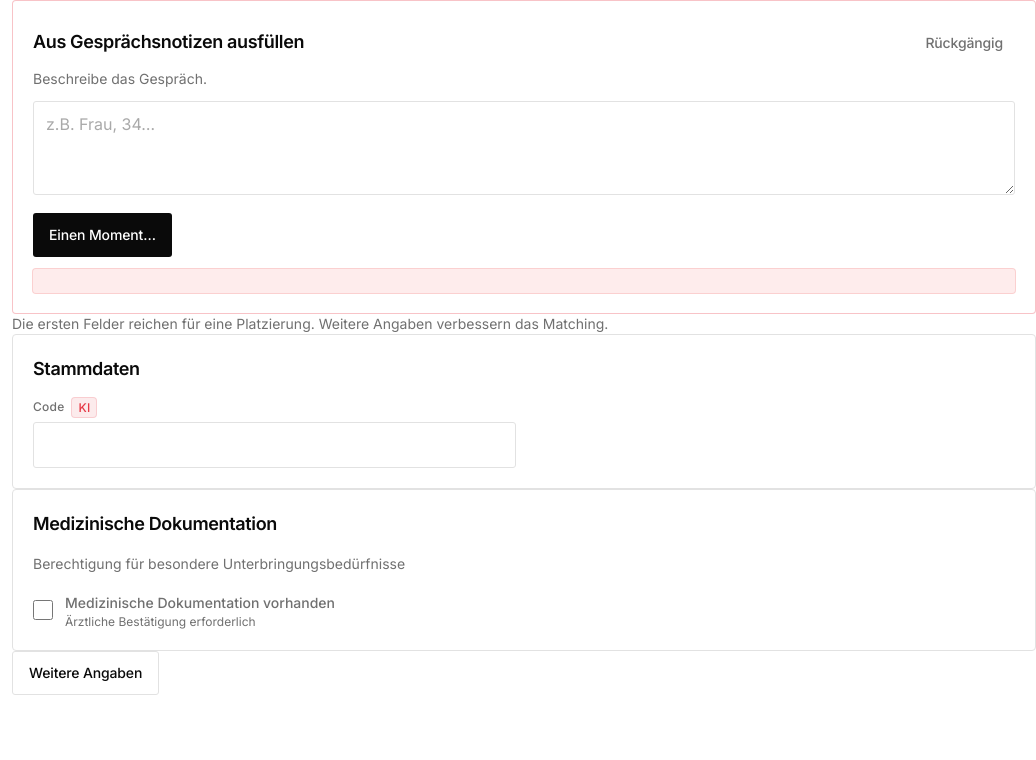
Test: ResidentFormFields — MedicalDocumentationSection › hides doc-type fields again when checkbox unchecked
Click the checkbox labelled "Medizinische Dokumentation vorhanden" at (43, 610), box [33,600,53,620]
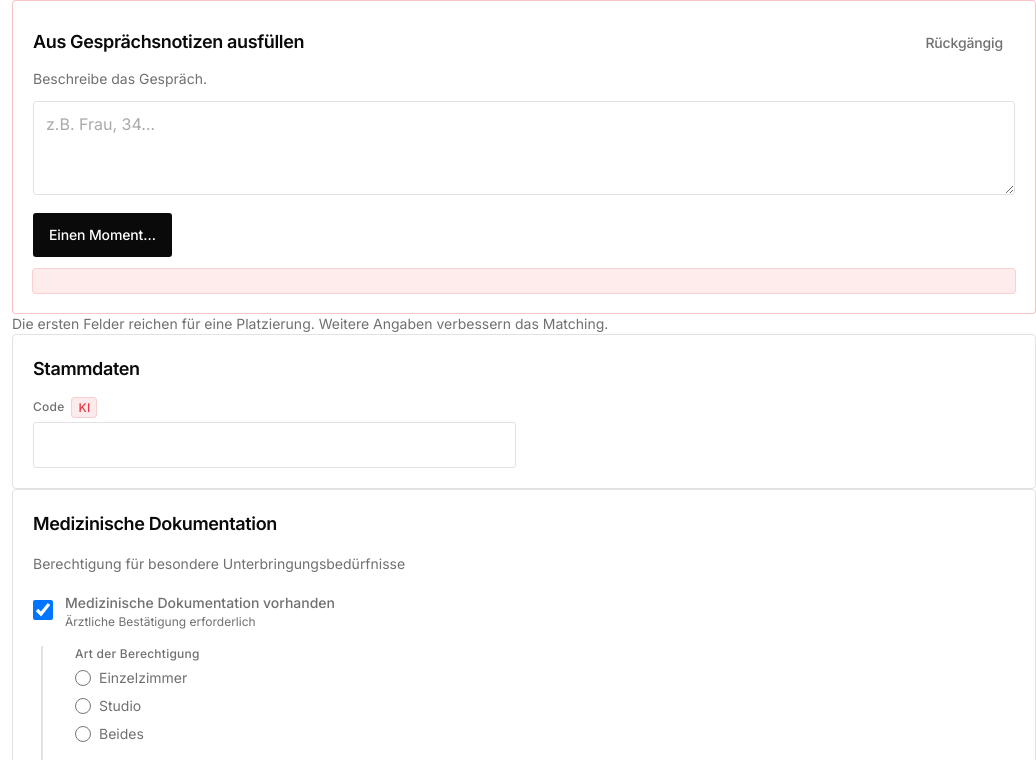
Click the checkbox labelled "Medizinische Dokumentation vorhanden" at (43, 610), box [33,600,53,620]
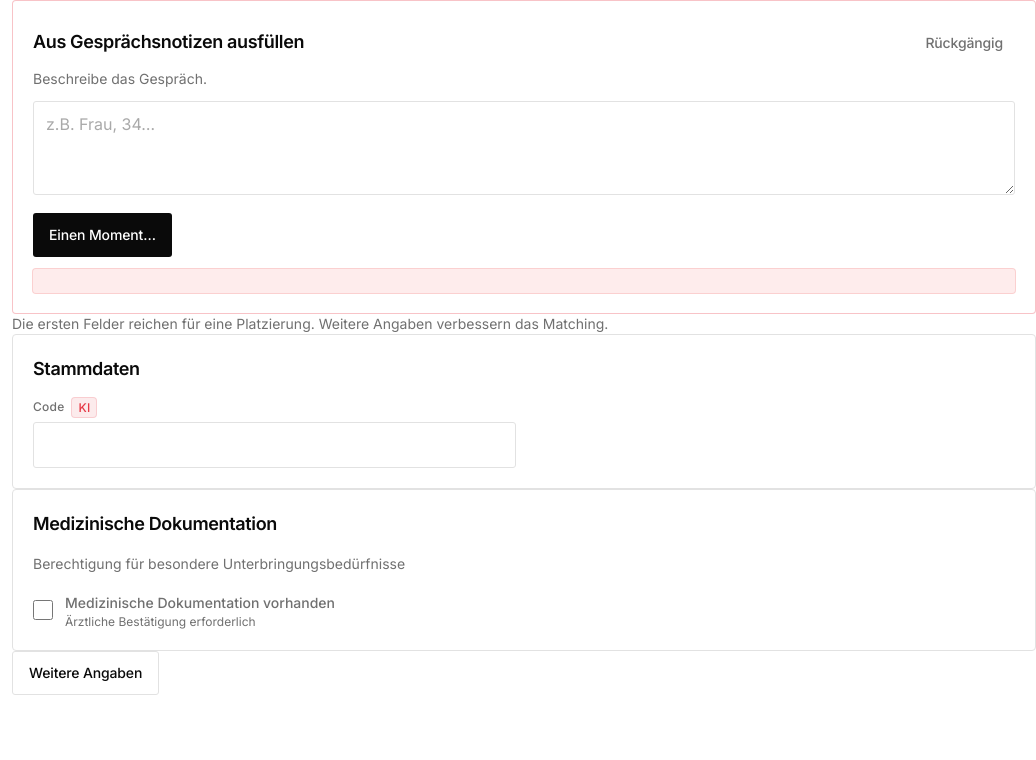
Check: the text "Art der Berechtigung" is gone
